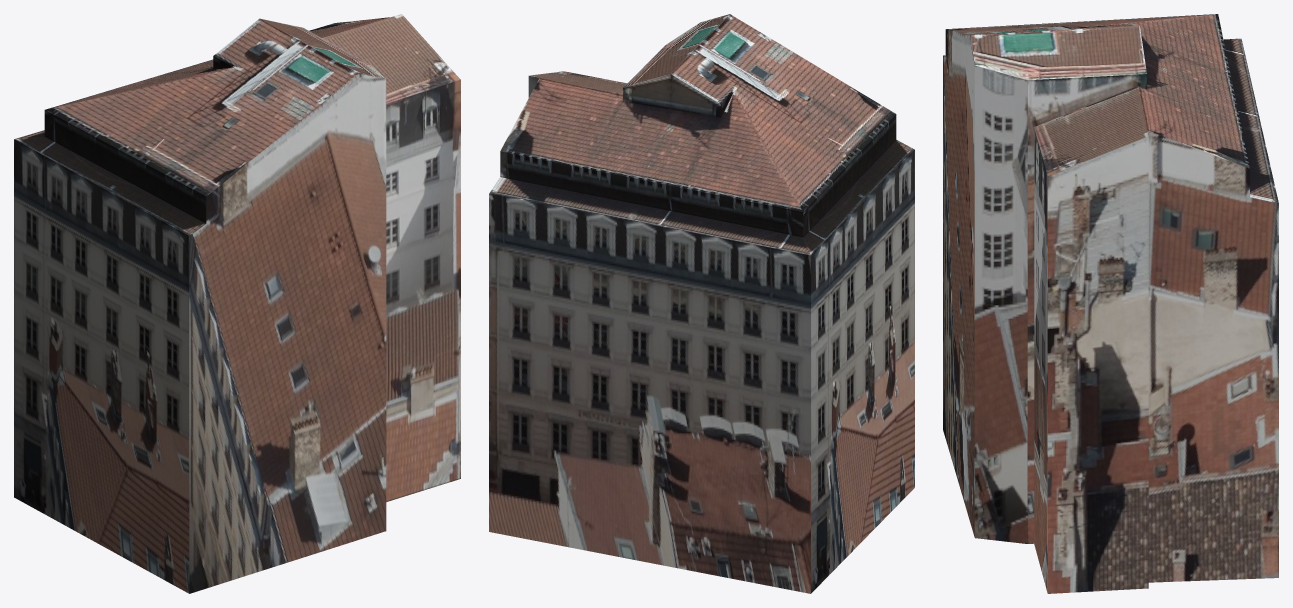
3 views of the same model, side by side, from view 1: azimuth 30°, elevation 25°; view 2: azimuth 150°, elevation 25°; view 3: azimuth 270°, elevation 25° (orthographic). The views are drawn at different scales.
Visible parts, largest first — view 1: Z_UP; view 2: Z_UP; view 3: Z_UP.
Boxes of the visible parts, x1=… form: Z_UP: x1=14, y1=14, x2=460, y2=593; Z_UP: x1=489, y1=14, x2=914, y2=593; Z_UP: x1=943, y1=14, x2=1278, y2=593.
Bounding box in the file's own units: 24.46 × 30.8 × 19.22.
2 materials, 1 textured.
